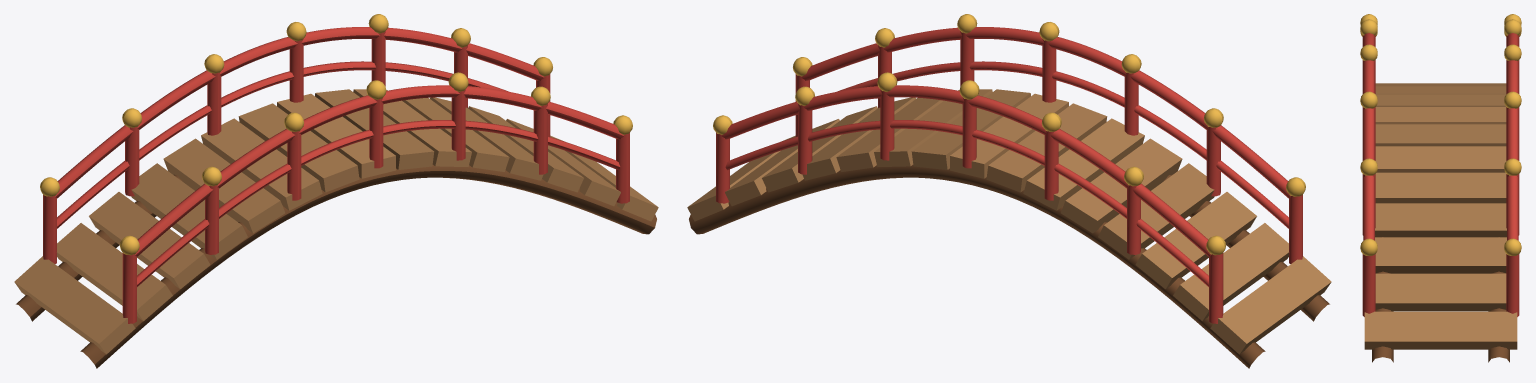
Rendered from archBridge.glb.
The picture shows the model from 3 angles, left to right: view 1: azimuth 30°, elevation 25°; view 2: azimuth 150°, elevation 25°; view 3: azimuth 270°, elevation 25°; orthographic projection. The views are drawn at different scales.
Visible parts, largest first — view 1: arch_bridge; view 2: arch_bridge; view 3: arch_bridge.
Part boxes in pixels (<box>): arch_bridge: <box>14,14,658,368</box>; arch_bridge: <box>687,14,1331,368</box>; arch_bridge: <box>1360,14,1521,362</box>.
Size of the model in its own units: 1.63 by 0.6154 by 0.4424.
